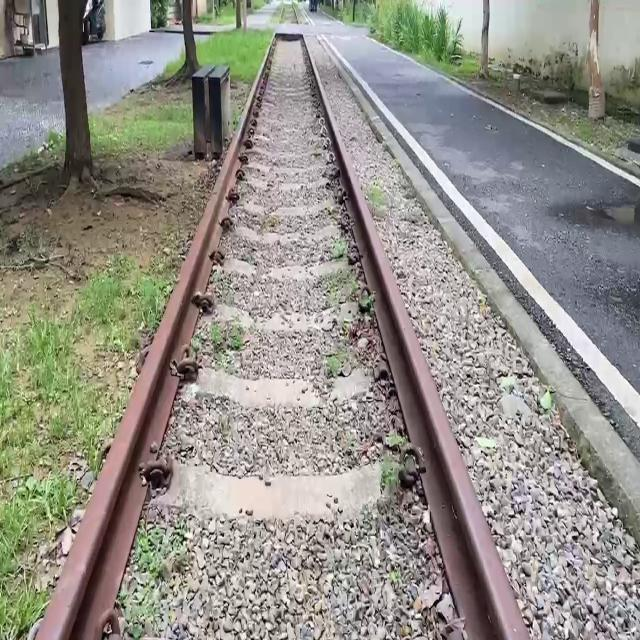rail-track: (120, 39, 460, 640)
